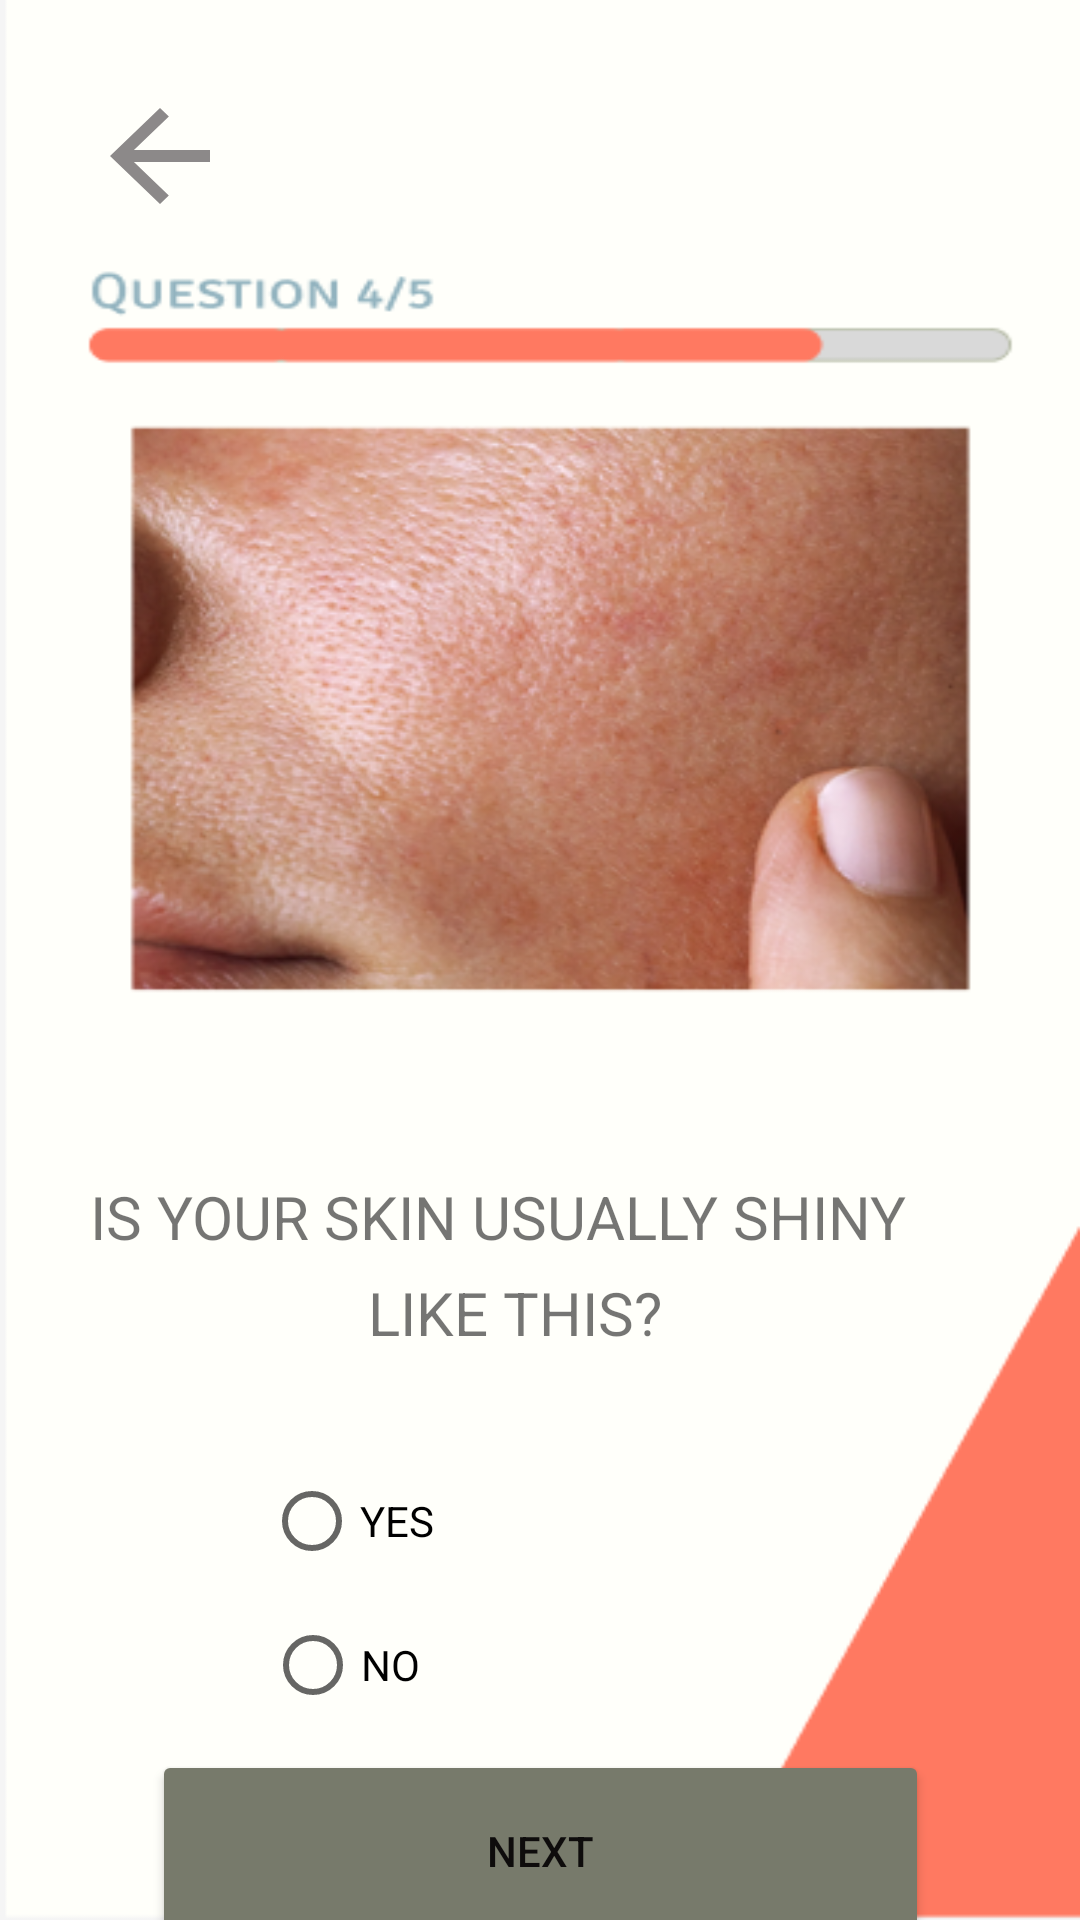

Where icons sit on this 1080w x 1920h app screen, as [x1, y1, x2, y2]:
arrow back: [110, 108, 210, 204]
